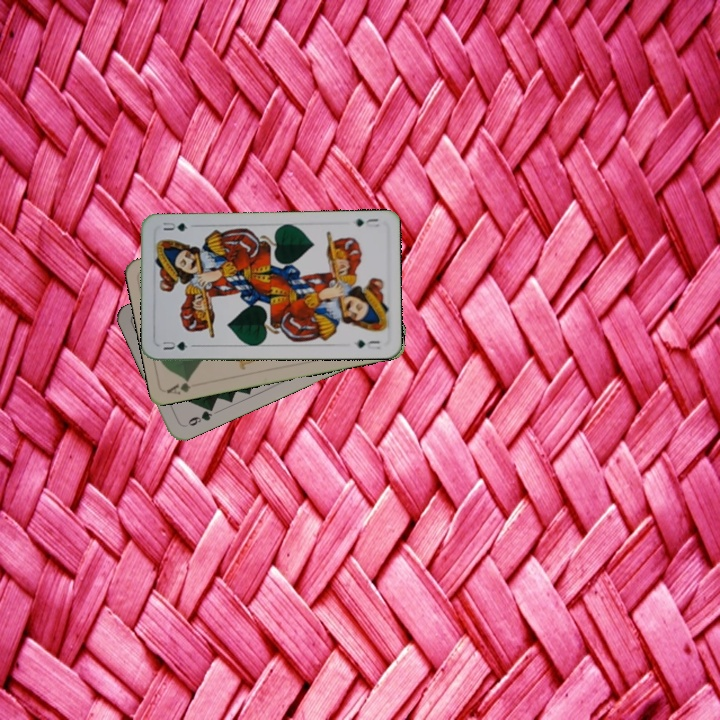G9: (184, 402, 216, 429)
GA: (164, 375, 193, 397)
GU: (159, 337, 191, 353), (351, 214, 381, 230)
